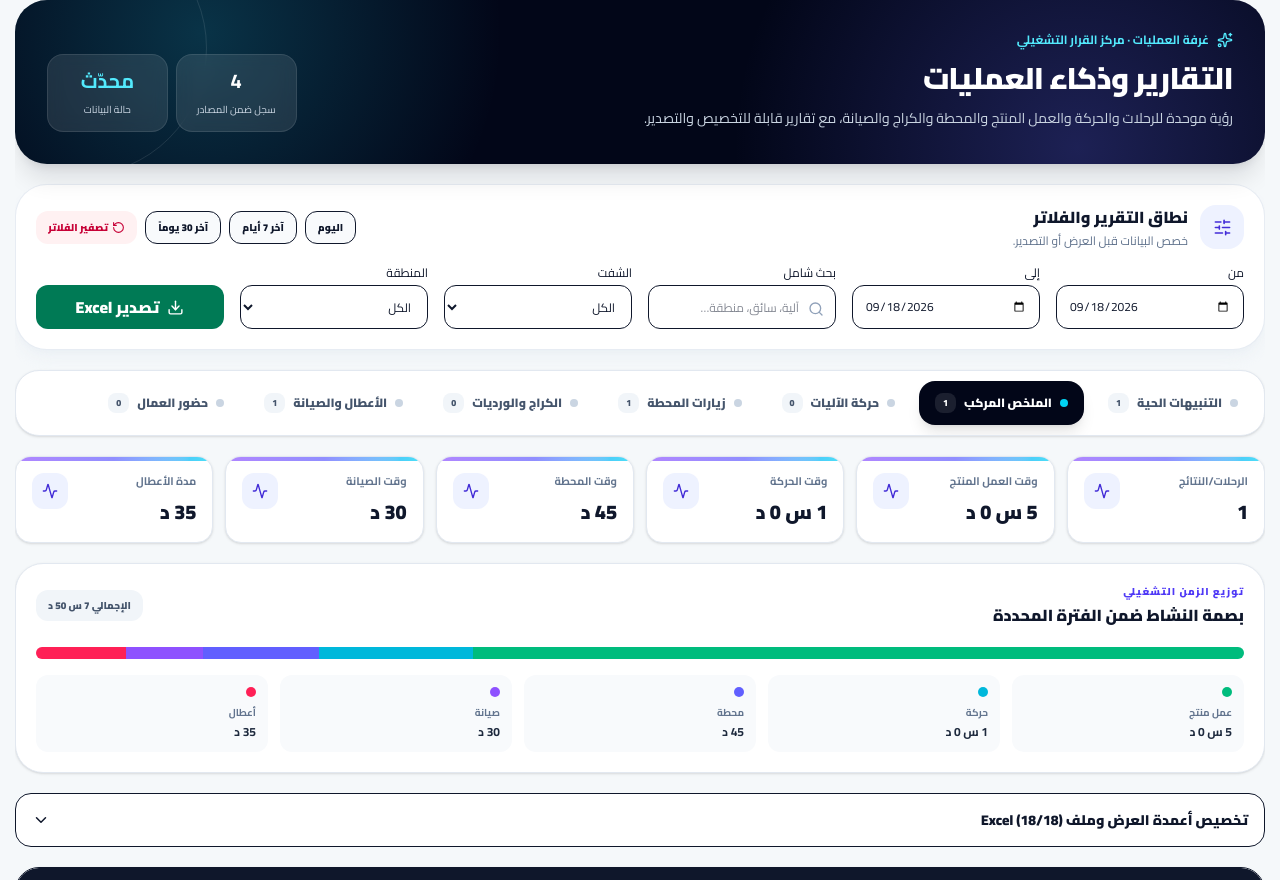
تقارير غرفة العمليات المركبة › يفتح تسلسل الصيانة من غرفة العمليات
Click the button with test id "ops-tab-maintenance".
click(334, 403)  # box [248,381,419,425]
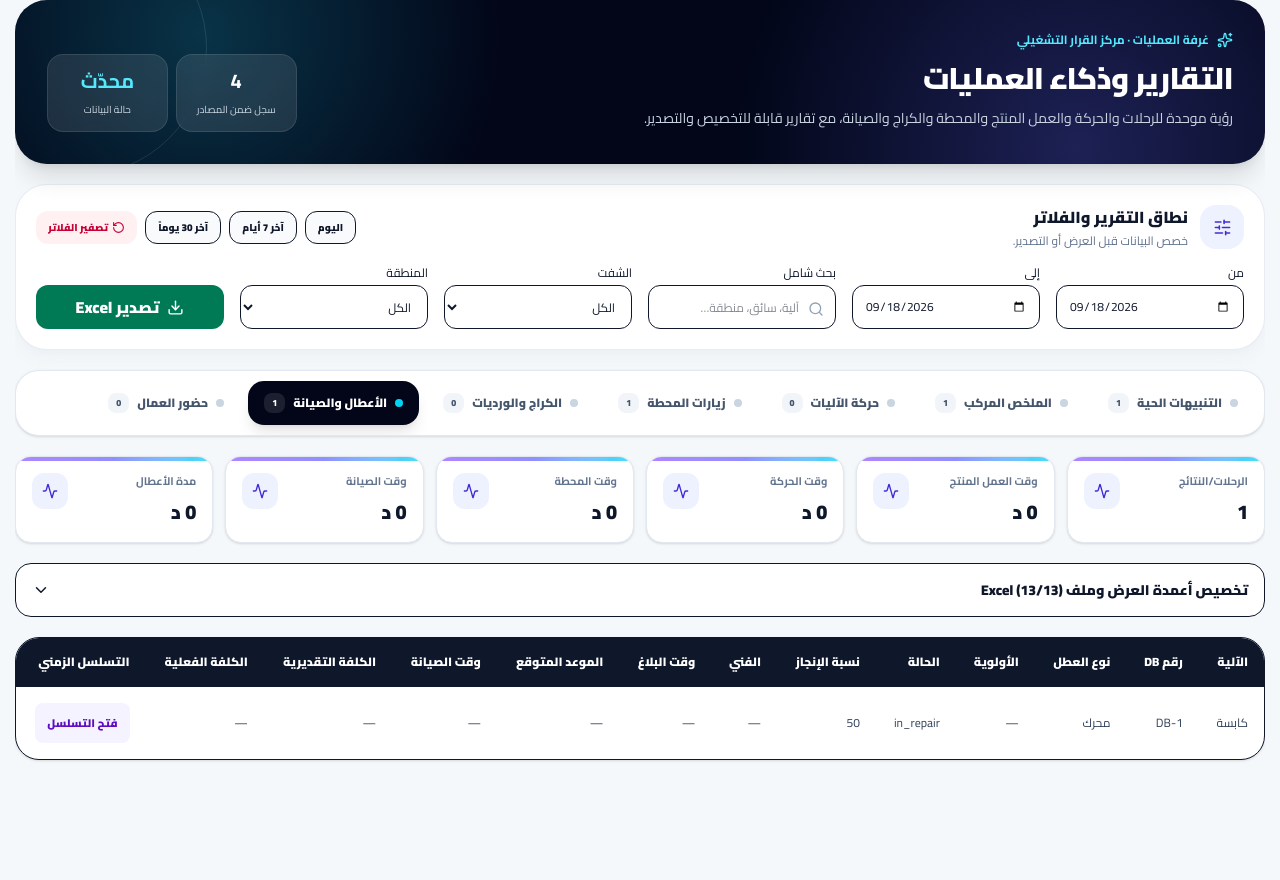
Click the button "فتح التسلسل".
click(82, 722)  # box [35,702,130,742]
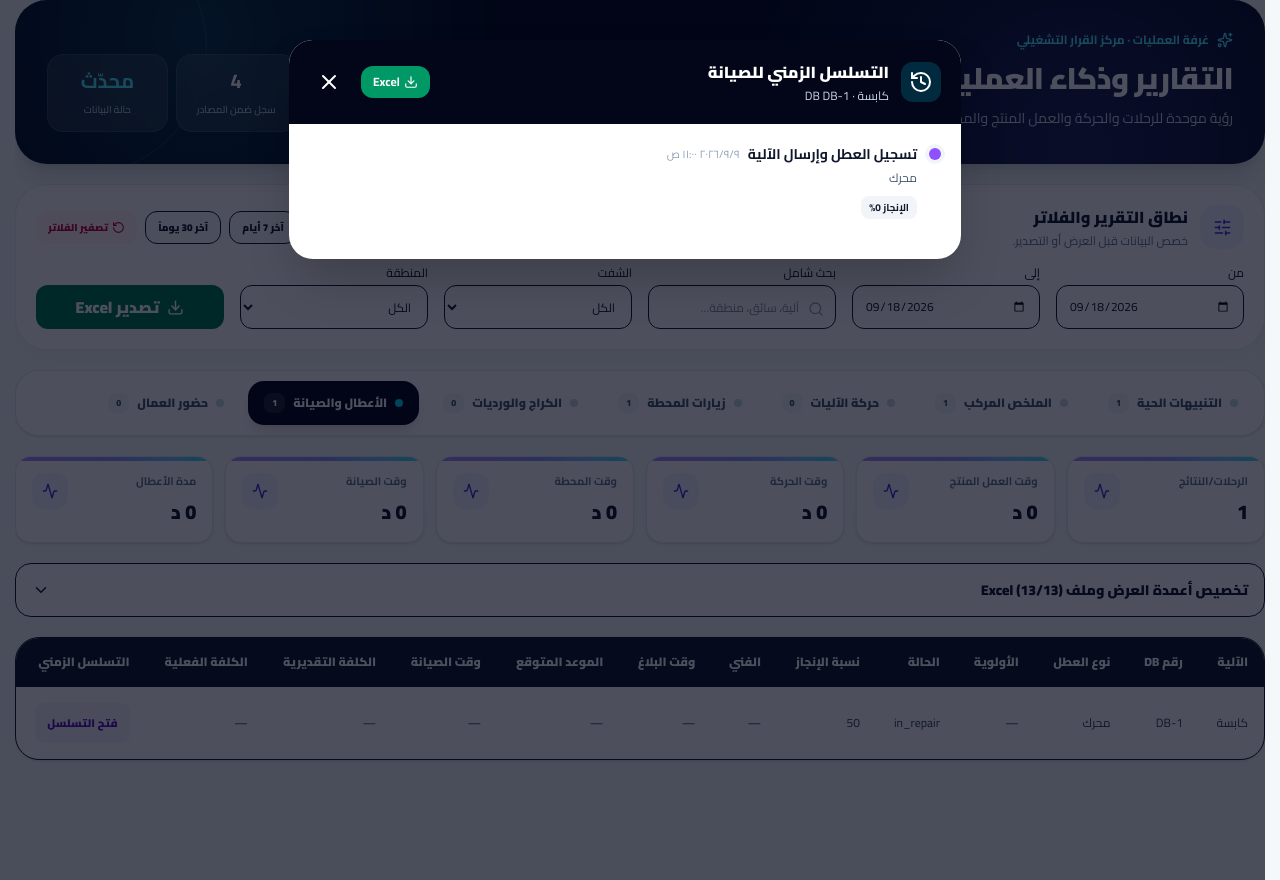
Check: the text "تسجيل العطل وإرسال الآلية" is shown, box [748,144,917,164]
